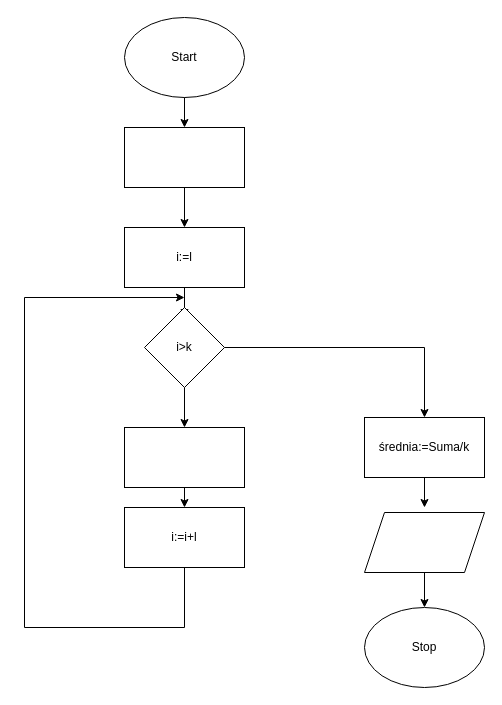
Some shapes in this 502 by 705 pixel diagram are drawn without their labels. Each missing label, with the centre of its shape:
"Pisz średnia" belongs at [424,542].
"suma:=0" belongs at [184,157].
"Suma:=Suma+t[i]" belongs at [184,457].
